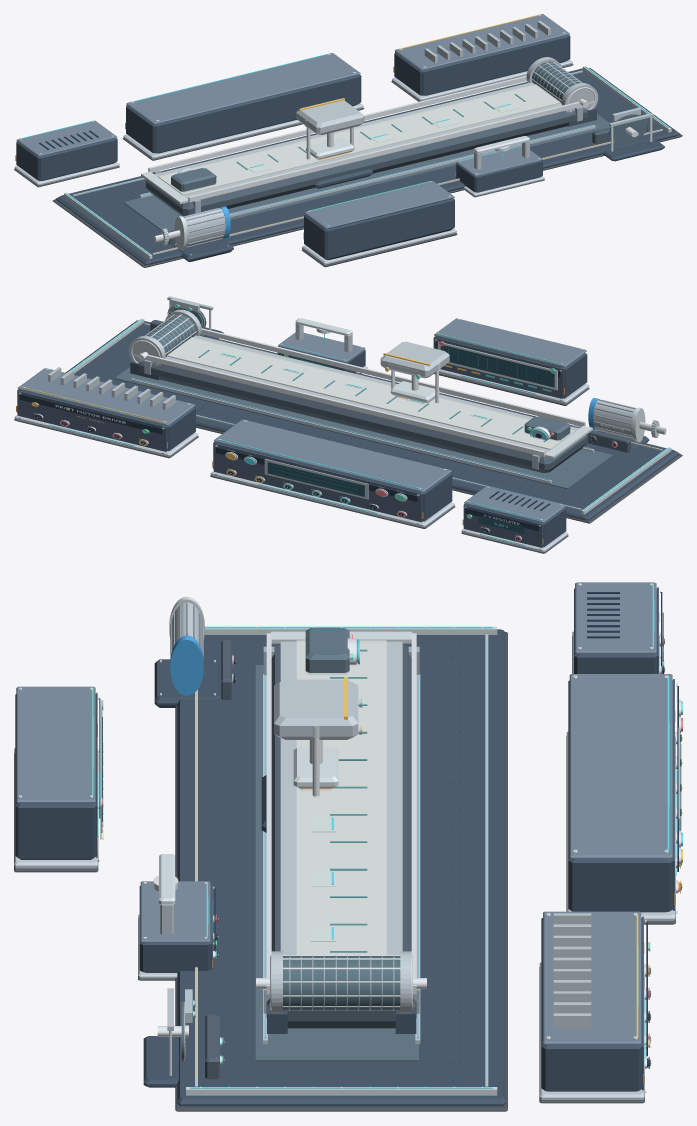
Rendered from Level48_Fitted_Assembly.fbx.
The picture shows the model from 3 angles, top to bottom: view 1: azimuth 30°, elevation 25°; view 2: azimuth 150°, elevation 25°; view 3: azimuth 270°, elevation 25°; orthographic projection. The views are drawn at different scales.
Parts seen in each view (by area): view 1: L48_Frame_Static__graphite, L48_Web_Static__film, L48_Controller_Static__graphite, L48_Web_Static__graphite2, L48_Controller_Static__mid_steel, L48_Quality_Static__graphite, L48_Web_Static__chrome, L48_Driver_Static__graphite, L48_Frame_Static__steel_dark, L48_Driver_Static__mid_steel, L48_Quality_Static__mid_steel, L48_Supply_Static__graphite (+29 smaller); view 2: L48_Frame_Static__graphite, L48_Web_Static__film, L48_Web_Static__graphite2, L48_Controller_Static__mid_steel, L48_Web_Static__chrome, L48_Frame_Static__steel_dark, L48_Controller_Static__deep_steel, L48_Driver_Static__mid_steel, L48_Quality_Static__mid_steel, L48_Driver_Static__deep_steel, L48_Web_Static__nickel, L48_Supply_Static__mid_steel (+38 smaller); view 3: L48_Frame_Static__graphite, L48_Web_Static__film, L48_Controller_Static__mid_steel, L48_Web_Static__nickel, L48_Quality_Static__mid_steel, L48_Driver_Static__mid_steel, L48_Frame_Static__steel_dark, L48_Web_Static__graphite2, L48_Controller_Static__graphite, L48_Roller_Roll__rubberblue, L48_Supply_Static__mid_steel, L48_Driver_Static__graphite (+30 smaller).
Boxes of the visible parts, x1,y1,x2,y2 form: L48_Frame_Static__graphite: [55, 68, 679, 264]; L48_Web_Static__film: [158, 84, 560, 195]; L48_Controller_Static__graphite: [126, 74, 361, 153]; L48_Web_Static__graphite2: [146, 108, 588, 216]; L48_Controller_Static__mid_steel: [126, 53, 360, 124]; L48_Quality_Static__graphite: [304, 198, 454, 259]; L48_Web_Static__chrome: [148, 75, 587, 202]; L48_Driver_Static__graphite: [394, 34, 570, 95]; L48_Frame_Static__steel_dark: [123, 114, 610, 231]; L48_Driver_Static__mid_steel: [394, 14, 569, 70]; L48_Quality_Static__mid_steel: [304, 181, 454, 229]; L48_Supply_Static__graphite: [16, 138, 117, 180]; L48_Frame_Static__graphite: [65, 320, 679, 520]; L48_Web_Static__film: [167, 337, 575, 449]; L48_Web_Static__graphite2: [139, 361, 588, 472]; L48_Controller_Static__mid_steel: [214, 419, 451, 524]; L48_Web_Static__chrome: [140, 328, 585, 456]; L48_Frame_Static__steel_dark: [115, 367, 613, 489]; L48_Controller_Static__deep_steel: [214, 443, 421, 522]; L48_Driver_Static__mid_steel: [17, 368, 195, 453]; L48_Quality_Static__mid_steel: [434, 318, 586, 367]; L48_Driver_Static__deep_steel: [17, 391, 166, 451]; L48_Web_Static__nickel: [165, 335, 579, 453]; L48_Supply_Static__mid_steel: [464, 486, 565, 531]; L48_Frame_Static__graphite: [177, 629, 505, 1106]; L48_Web_Static__film: [296, 640, 386, 955]; L48_Controller_Static__mid_steel: [569, 674, 677, 911]; L48_Web_Static__nickel: [280, 641, 402, 955]; L48_Quality_Static__mid_steel: [16, 686, 95, 803]; L48_Driver_Static__mid_steel: [543, 911, 641, 1044]; L48_Frame_Static__steel_dark: [255, 665, 418, 1061]; L48_Web_Static__graphite2: [266, 644, 416, 1028]; L48_Controller_Static__graphite: [568, 680, 672, 912]; L48_Roller_Roll__rubberblue: [283, 956, 400, 1010]; L48_Supply_Static__mid_steel: [575, 582, 656, 653]; L48_Driver_Static__graphite: [541, 918, 641, 1091].
Size of the model in its own units: 194 by 25.9 by 115.
